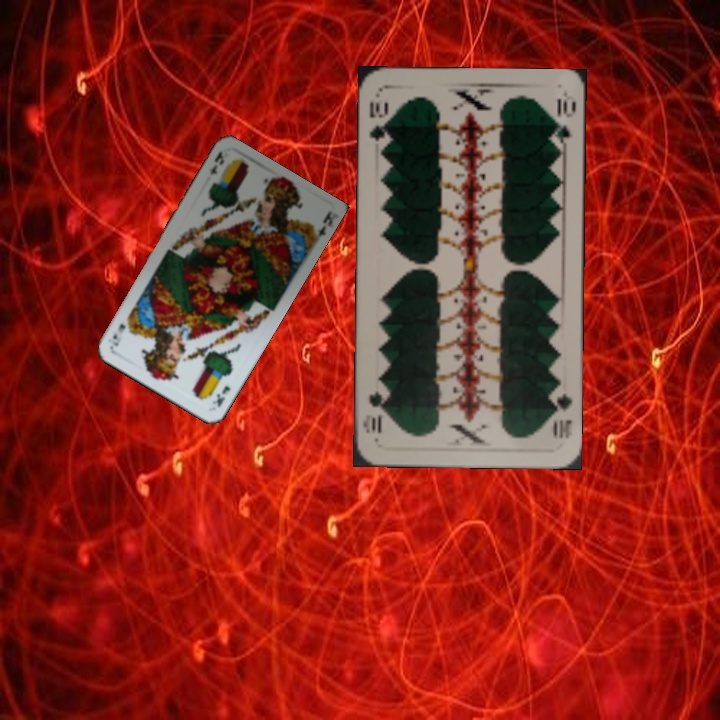EK: (208, 382, 233, 410), (206, 147, 227, 178)
G10: (547, 384, 574, 441), (365, 97, 391, 143)
